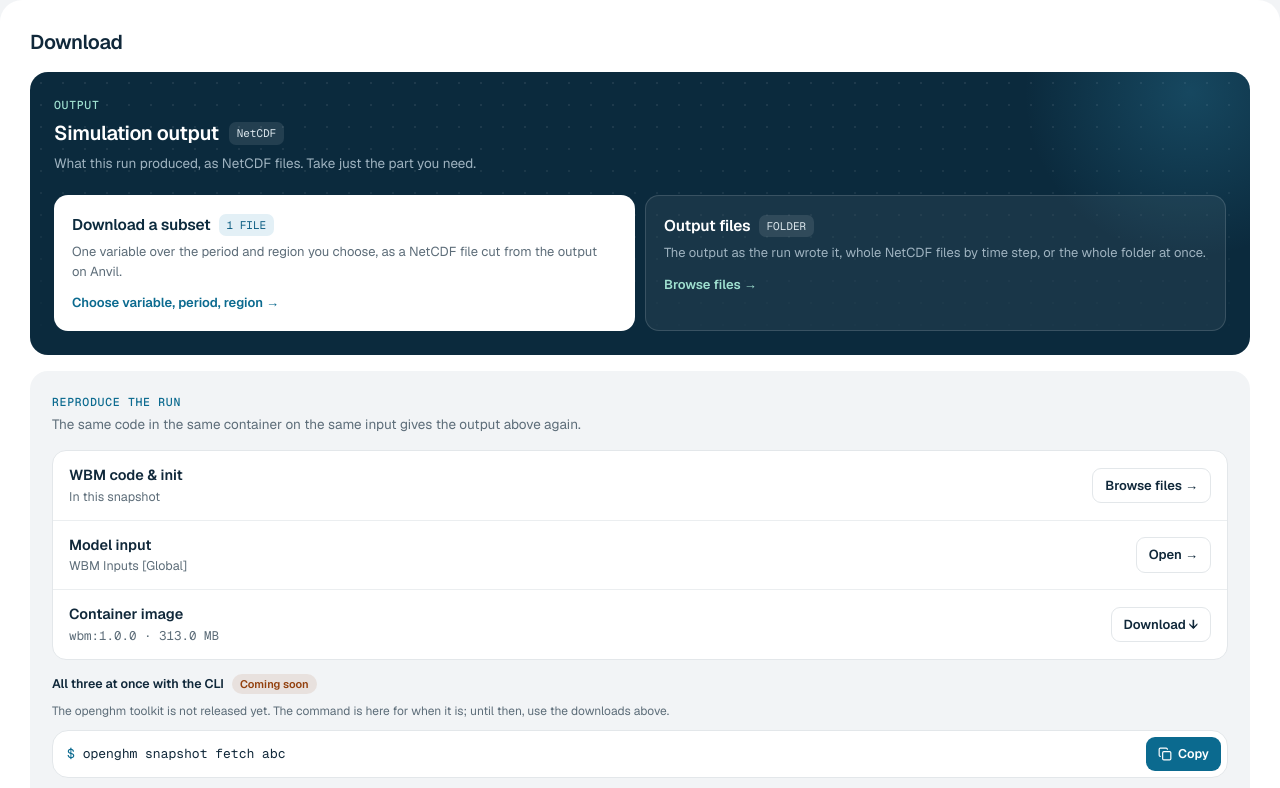
Test: SnapshotDownload › offers what a run needs: the code, the model input, the container, and the fetch for all three
The image size is (1280, 788).
Expected: the text "wbm:1.0.0 · 313.0 MB" is shown, 69,627 -> 219,646
Expected: the text "All three at once with the CLI" shows "Coming soon", 240,677 -> 309,691
Click the button with aria-label "Copy command" at (1184, 754), box 1146,737 -> 1221,771
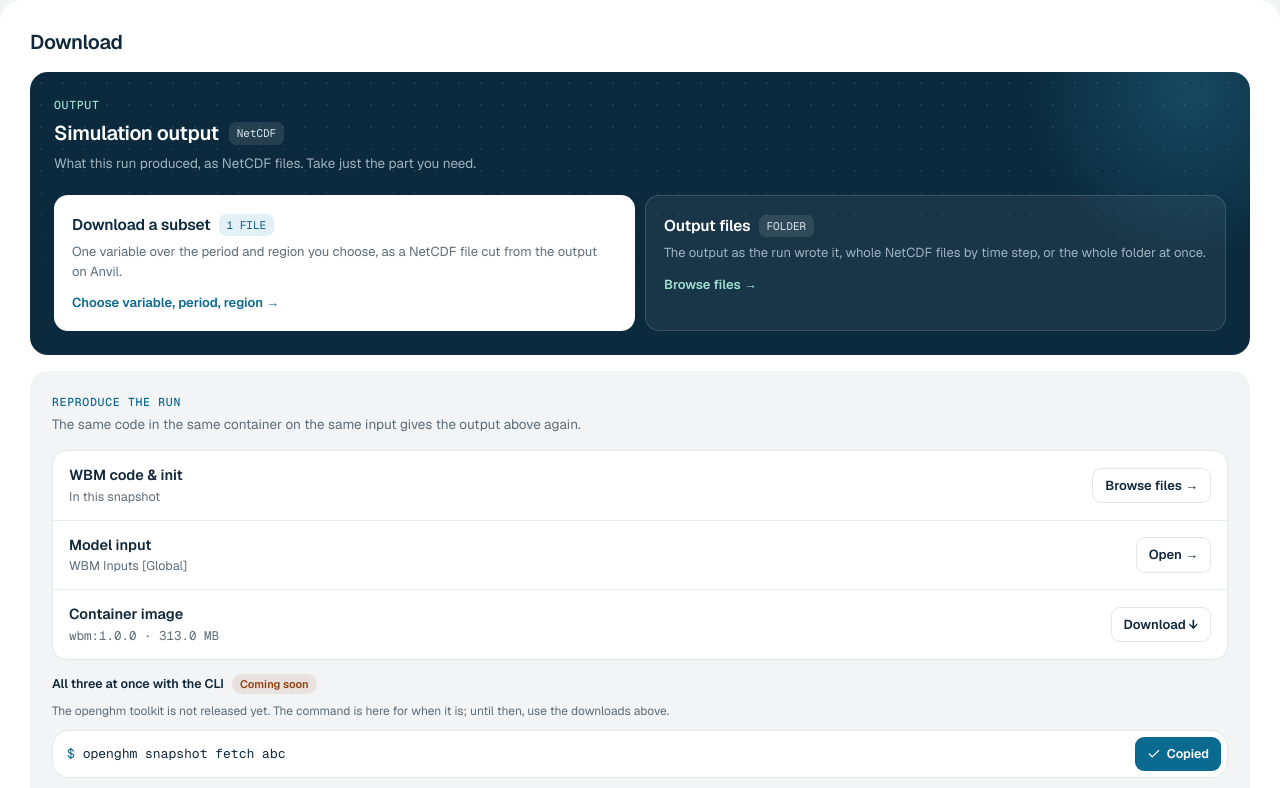
Now the button "Copied" is shown, box 1135,737 -> 1221,771
